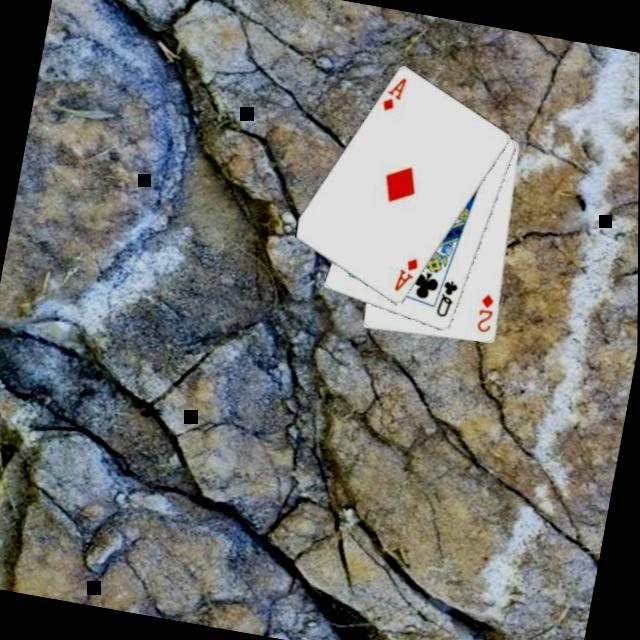2D: (475, 288, 501, 335)
AD: (392, 250, 425, 296), (380, 70, 412, 116)
QC: (434, 273, 465, 320)
